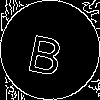B: (25, 25, 68, 77)
